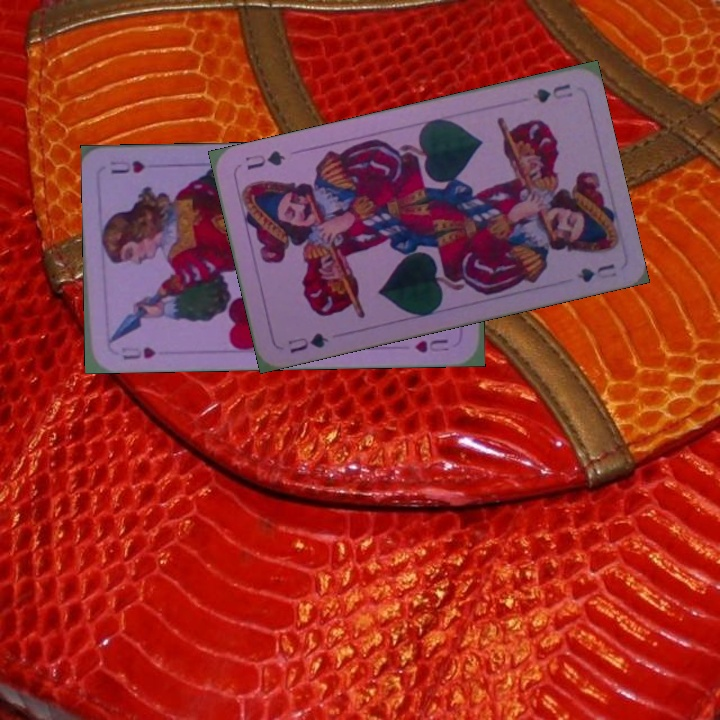GU: (284, 328, 331, 356), (529, 80, 576, 106)
HU: (117, 342, 158, 362)
